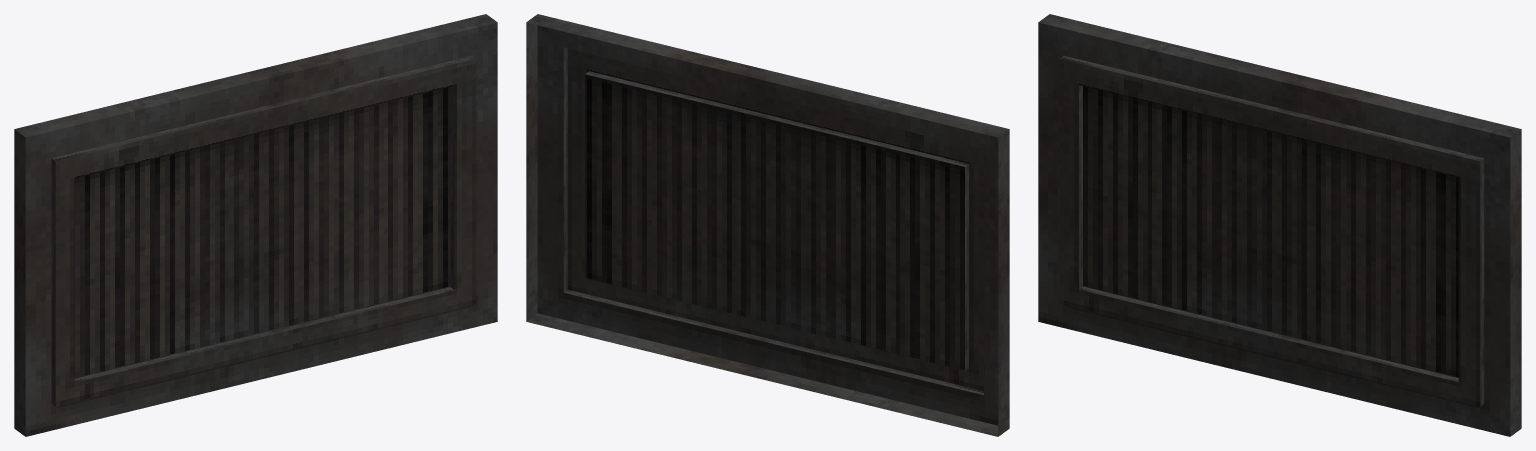
The model's file is vent_mp_1.glb.
The picture shows the model from 3 angles, left to right: view 1: azimuth 30°, elevation 25°; view 2: azimuth 150°, elevation 25°; view 3: azimuth 330°, elevation 25°; orthographic projection.
Parts seen in each view (by area): view 1: vent_mp_1; view 2: vent_mp_1; view 3: vent_mp_1.
Part boxes in pixels (bbox=[...]): vent_mp_1: bbox=[14, 14, 497, 436]; vent_mp_1: bbox=[526, 14, 1009, 436]; vent_mp_1: bbox=[1038, 14, 1521, 436].
Size of the model in its own units: 0.33 by 0.2 by 0.019.
Materials: 1 (1 with a texture image).
